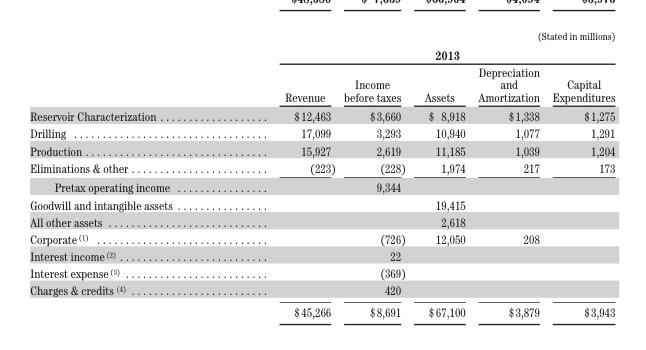table: (29, 29, 614, 319)
table column: (29, 29, 228, 319), (228, 29, 339, 319), (339, 29, 414, 319), (471, 29, 545, 319), (545, 29, 614, 319), (414, 29, 471, 319)
table column header: (29, 29, 614, 106)
table row: (29, 63, 614, 106), (29, 29, 614, 63), (29, 158, 614, 177), (29, 281, 614, 300), (29, 300, 614, 319), (29, 106, 614, 124), (29, 177, 614, 195), (29, 229, 614, 247), (29, 124, 614, 141), (29, 141, 614, 158), (29, 195, 614, 212), (29, 212, 614, 229), (29, 247, 614, 264), (29, 264, 614, 281)
table spanning cell: (228, 29, 614, 63)
